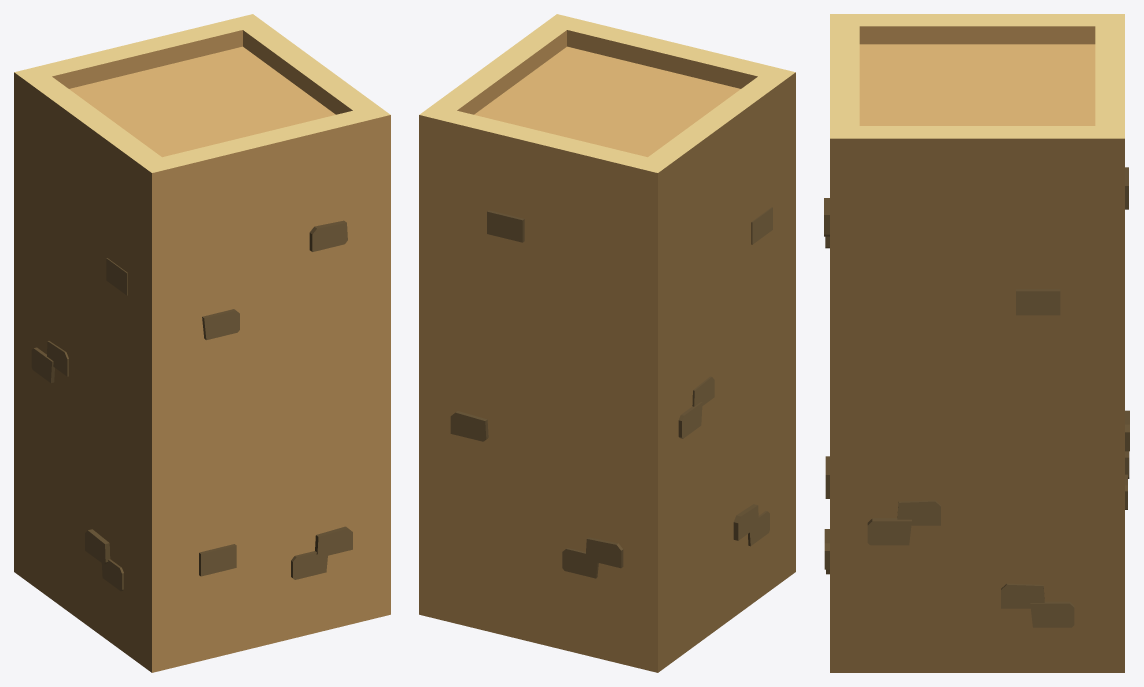
Rendered from TB_D_Bd_Body_Tall_Yel.FBX.
3 renders of one model, left to right at view 1: azimuth 30°, elevation 25°; view 2: azimuth 150°, elevation 25°; view 3: azimuth 270°, elevation 25°, orthographic. The views are drawn at different scales.
Visible parts, largest first — view 1: TB_D_Bd_Body_Tall_Yel; view 2: TB_D_Bd_Body_Tall_Yel; view 3: TB_D_Bd_Body_Tall_Yel.
Boxes of the visible parts, x1,y1,x2,y2 form: TB_D_Bd_Body_Tall_Yel: (14, 14, 390, 672); TB_D_Bd_Body_Tall_Yel: (419, 14, 795, 672); TB_D_Bd_Body_Tall_Yel: (824, 14, 1129, 672).
Size of the model in its own units: 3.13 by 6 by 3.11.
